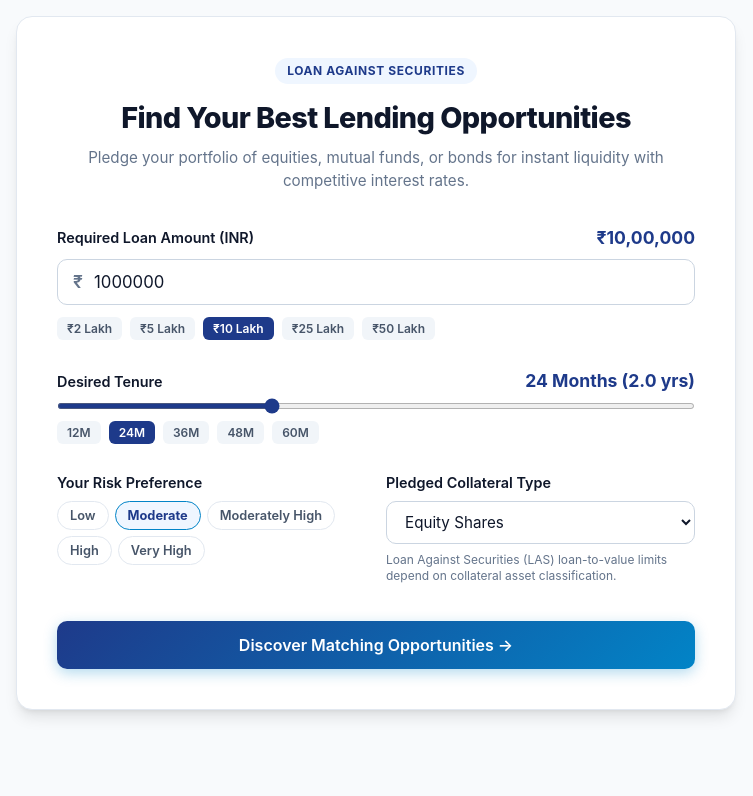
RequirementForm › shows a validation error when the amount is below the minimum
Step 1. Replace the text in the number field labelled "Required Loan Amount (INR)" with "1000" → (376, 282), box [57, 259, 695, 305]
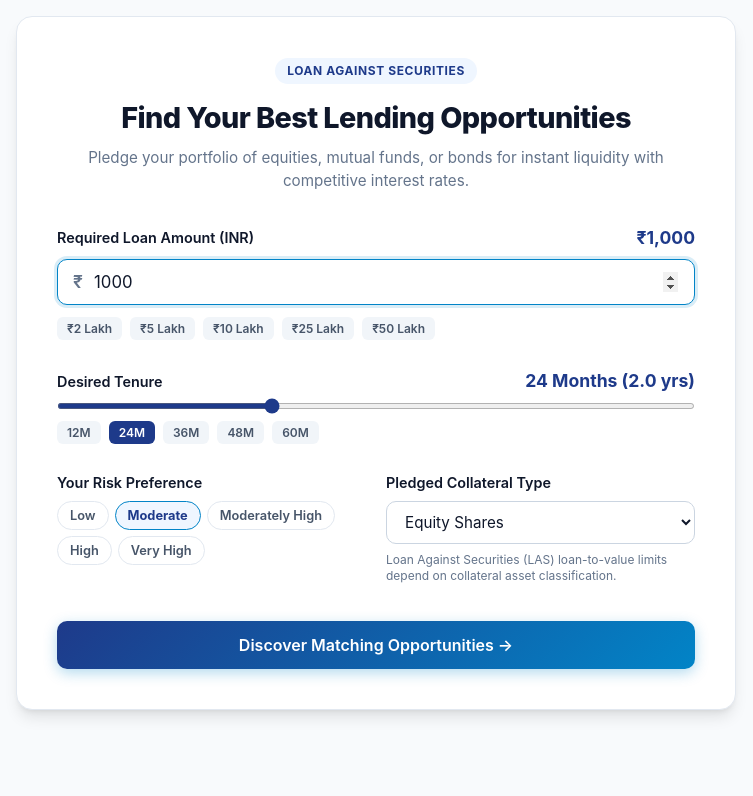
Step 2. Click the button "Discover Matching Opportunities →" → (376, 645), box [57, 621, 695, 669]
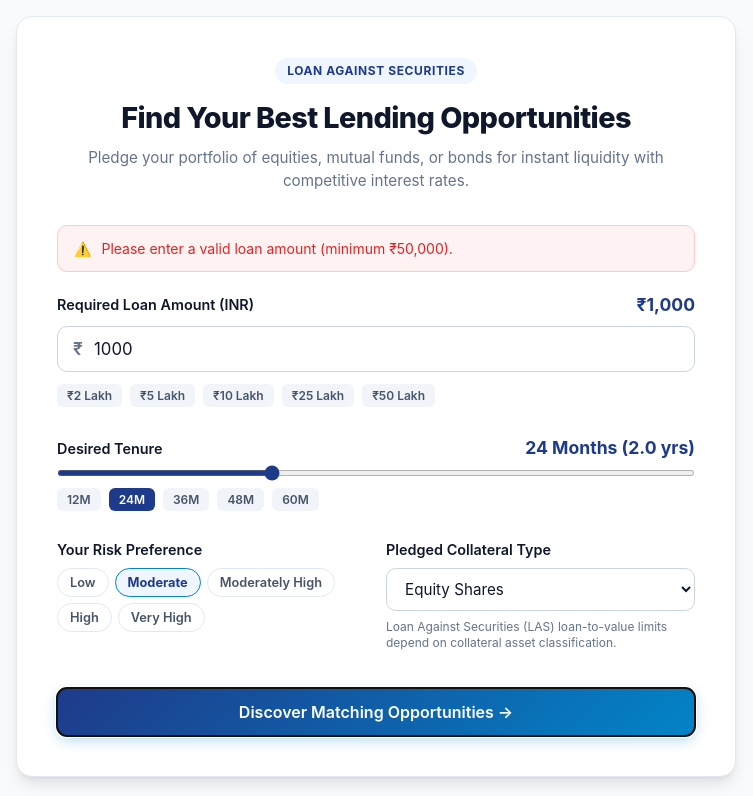
Now the message shows "minimum ₹50,000", box [102, 240, 453, 257]
